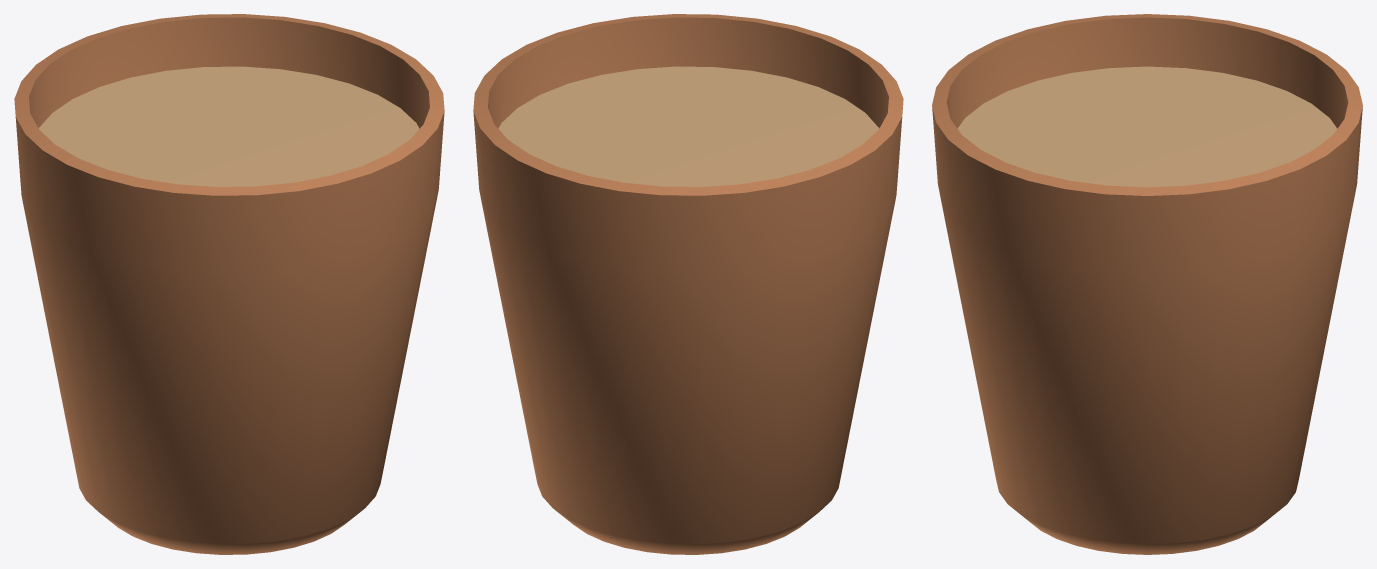
File: food_chai.glb
The picture shows the model from 3 angles, left to right: view 1: azimuth 30°, elevation 25°; view 2: azimuth 150°, elevation 25°; view 3: azimuth 270°, elevation 25°; orthographic projection.
Visible parts, largest first — view 1: Kulhad_LOD0, Chai_LOD0; view 2: Kulhad_LOD0, Chai_LOD0; view 3: Kulhad_LOD0, Chai_LOD0.
Boxes of the visible parts, x1,y1,x2,y2 form: Kulhad_LOD0: (14,14,444,554); Chai_LOD0: (38,66,419,186); Kulhad_LOD0: (473,14,903,554); Chai_LOD0: (498,66,879,186); Kulhad_LOD0: (932,14,1362,554); Chai_LOD0: (957,66,1337,187).
Size of the model in its own units: 0.074 by 0.0755 by 0.074.
